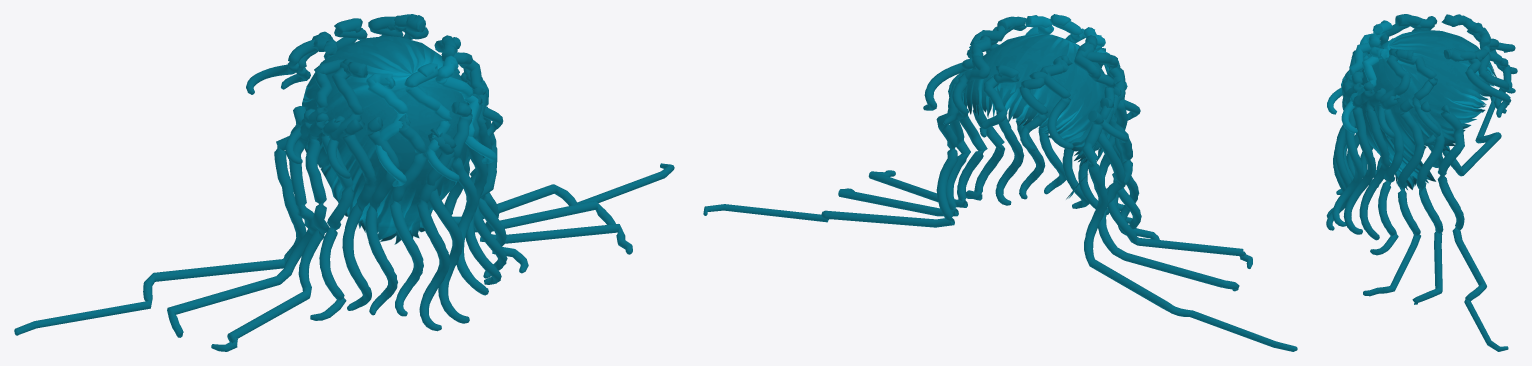
Rendered from hair.glb.
3 renders of one model, left to right at view 1: azimuth 30°, elevation 25°; view 2: azimuth 150°, elevation 25°; view 3: azimuth 270°, elevation 25°, orthographic. The views are drawn at different scales.
Visible parts, largest first — view 1: male-medium-curls-v1; view 2: male-medium-curls-v1; view 3: male-medium-curls-v1.
Part boxes in pixels (<box>): male-medium-curls-v1: <box>14,14,674,351</box>; male-medium-curls-v1: <box>703,14,1297,351</box>; male-medium-curls-v1: <box>1326,14,1517,351</box>.
Bounding box in the file's own units: 0.9044 × 0.3175 × 0.2854.
Materials: 1 (1 with a texture image).
